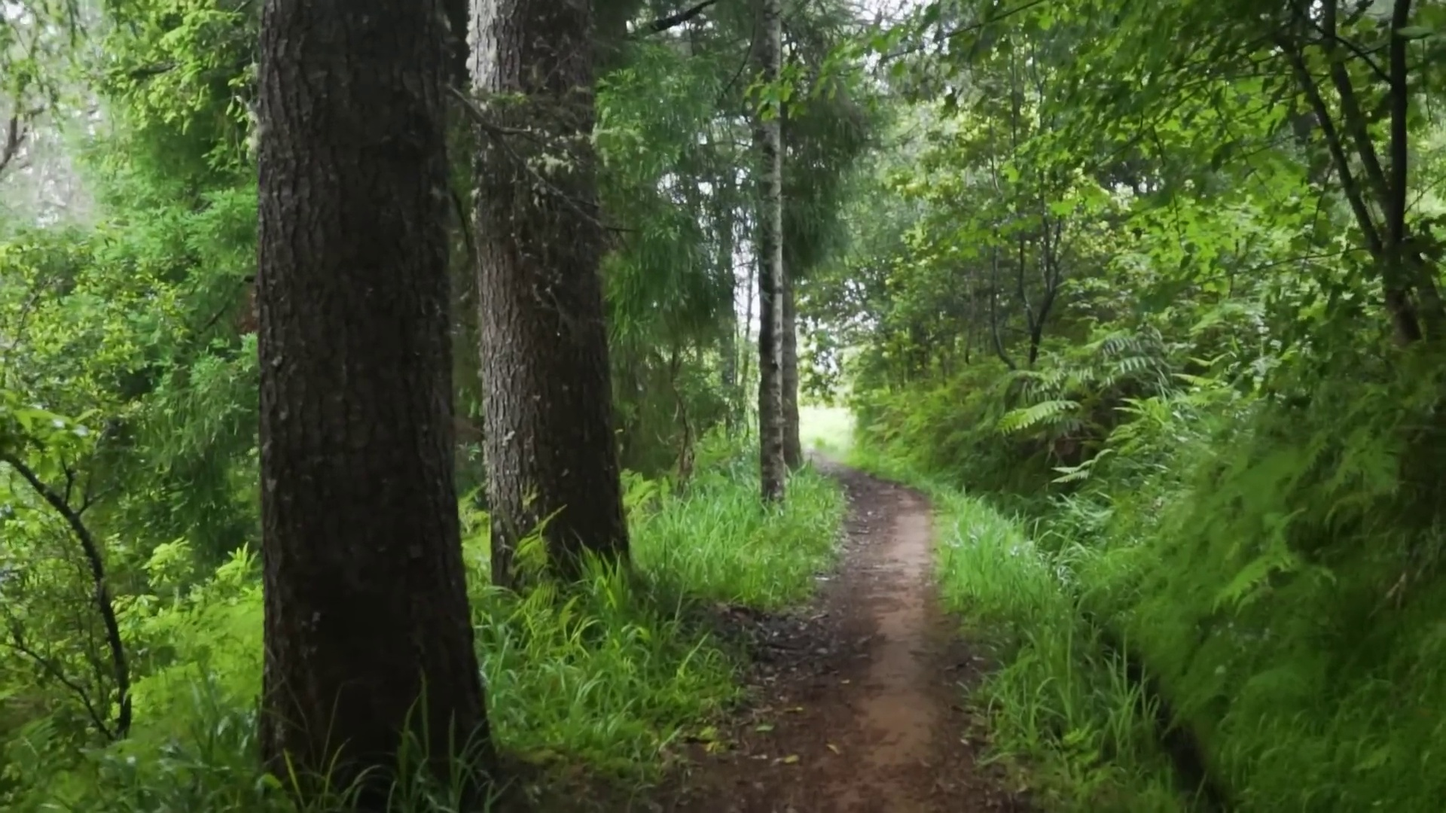tree: (256, 0, 487, 786), (471, 0, 628, 583), (752, 0, 786, 501)
